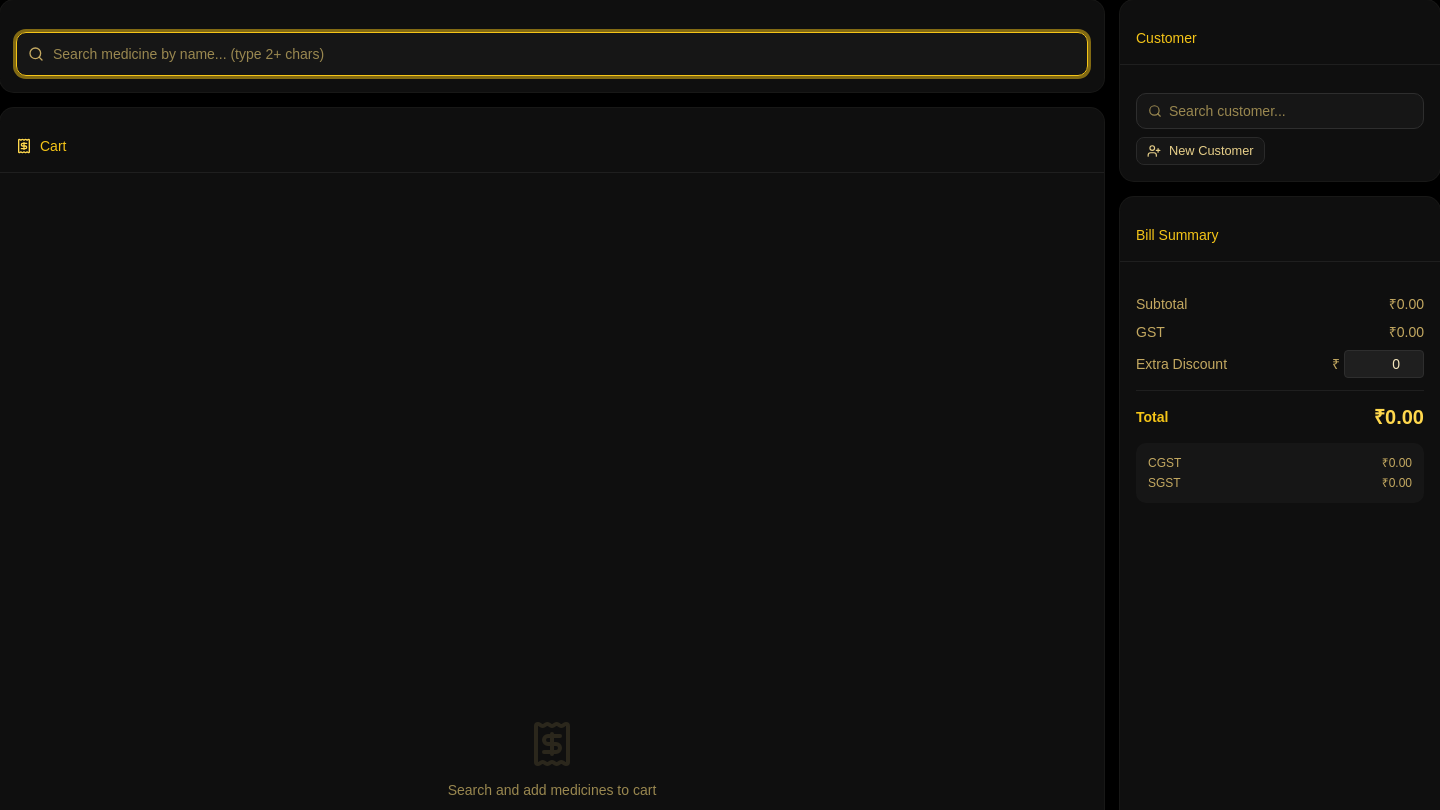
batch selection at the POS › adds the batch the operator picked, at that batch's price
The width and height of the screenshot is (1440, 810).
In the field with placeholder "Search medicine by name... (type 2+ chars)": (552, 54) x1=16 y1=32 x2=1088 y2=76, type "para"
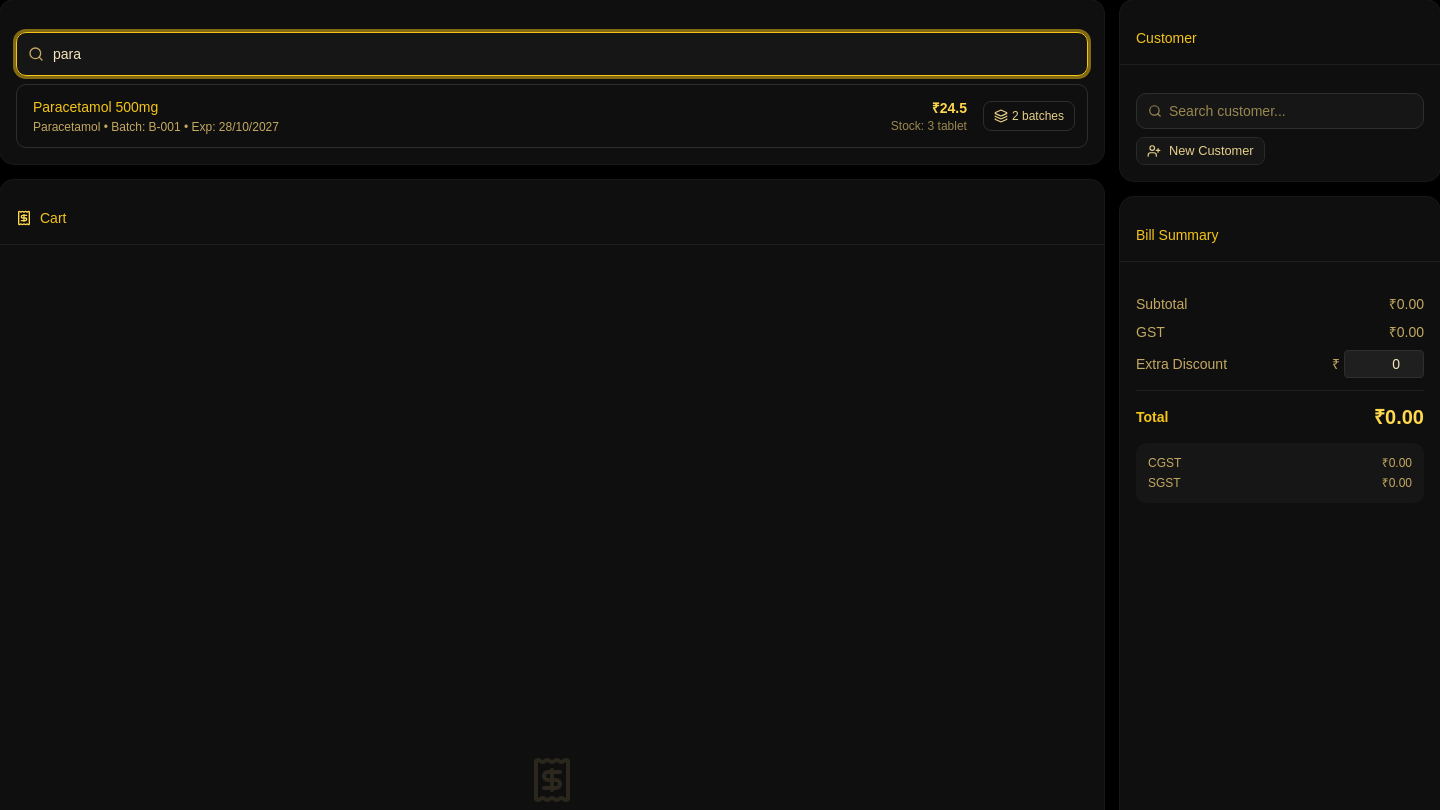
Click the button "2 batches": click(1029, 116) x1=983 y1=101 x2=1075 y2=131
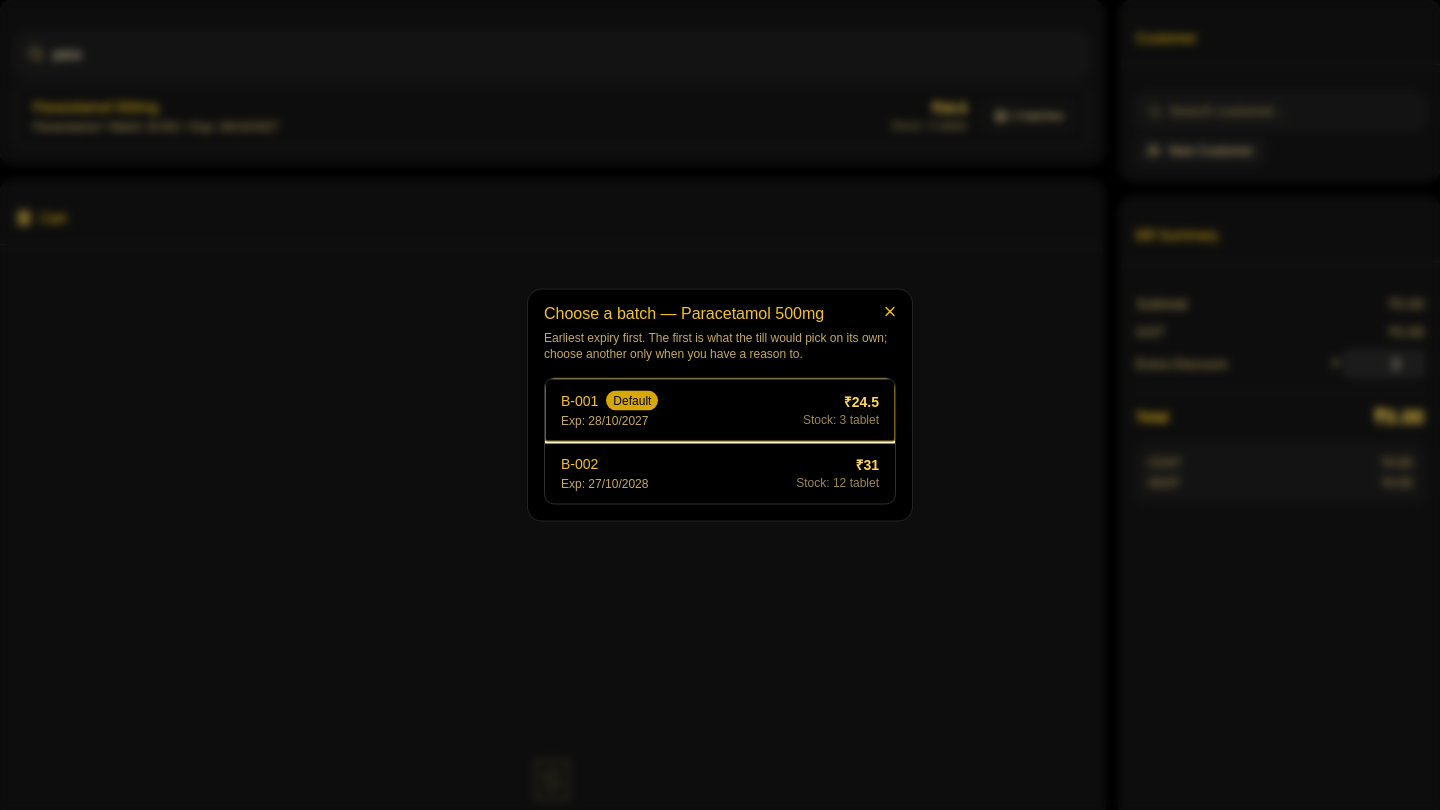
Result: the icon "Default" is shown at x1=606 y1=390 x2=658 y2=410
Click the button "B-002 Exp: 27/10/2028 ₹31 Stock: 12 tablet": click(580, 464) x1=545 y1=442 x2=895 y2=504
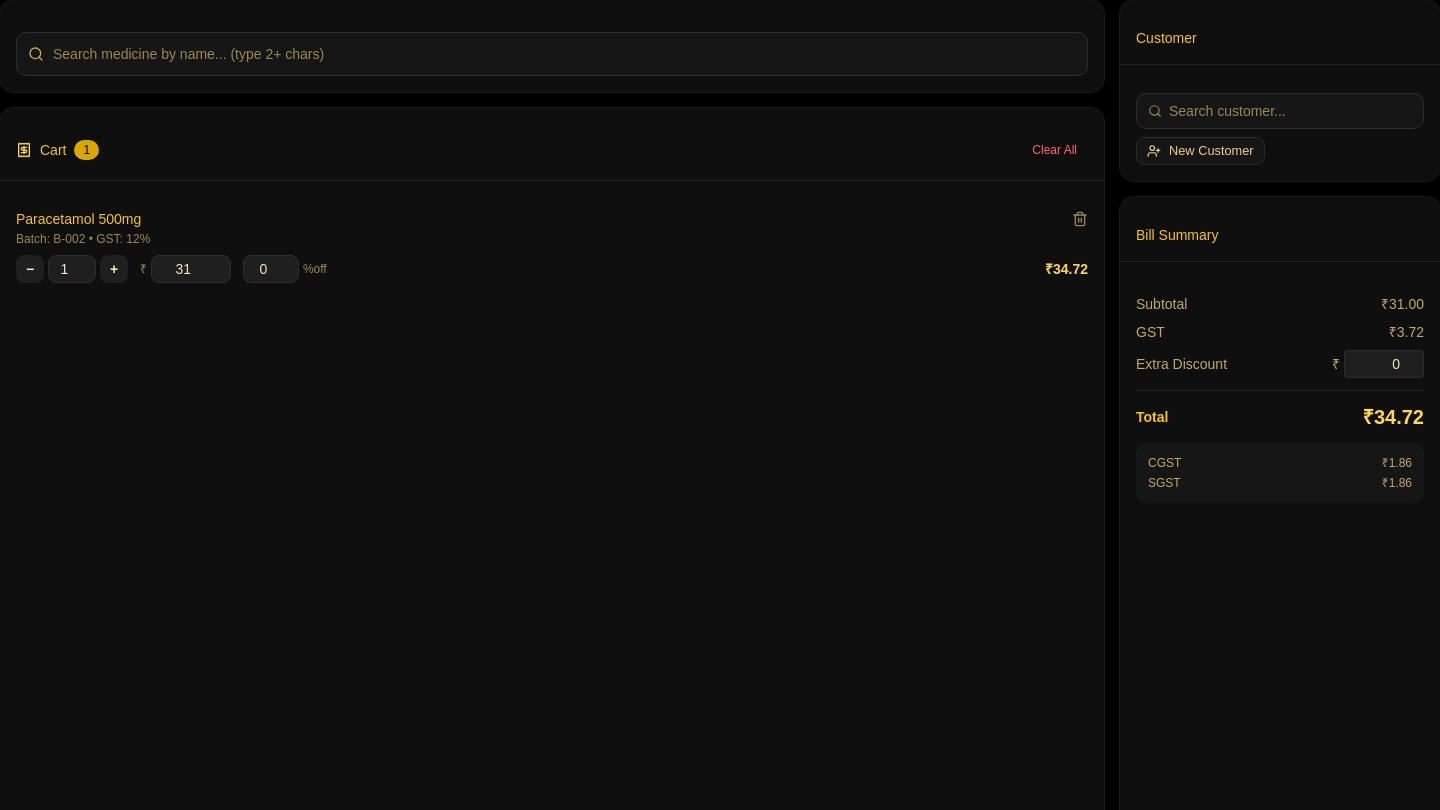
Result: the text "Batch: B-002 • GST: 12%" is shown at x1=16 y1=232 x2=150 y2=246
